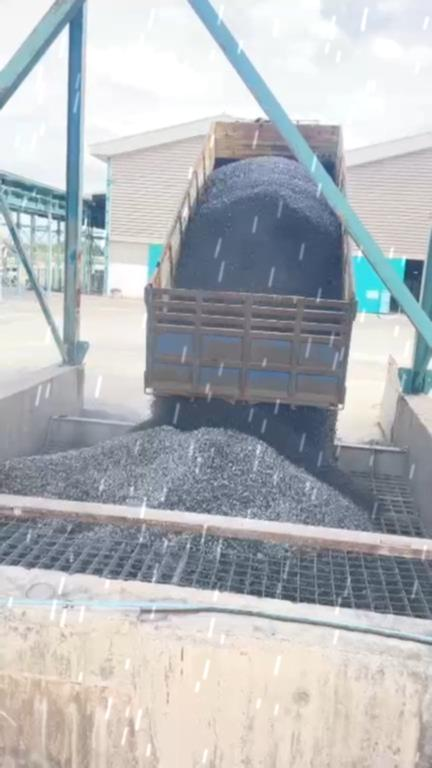gravel: (0, 398, 374, 529), (175, 156, 341, 297), (140, 530, 295, 556)
